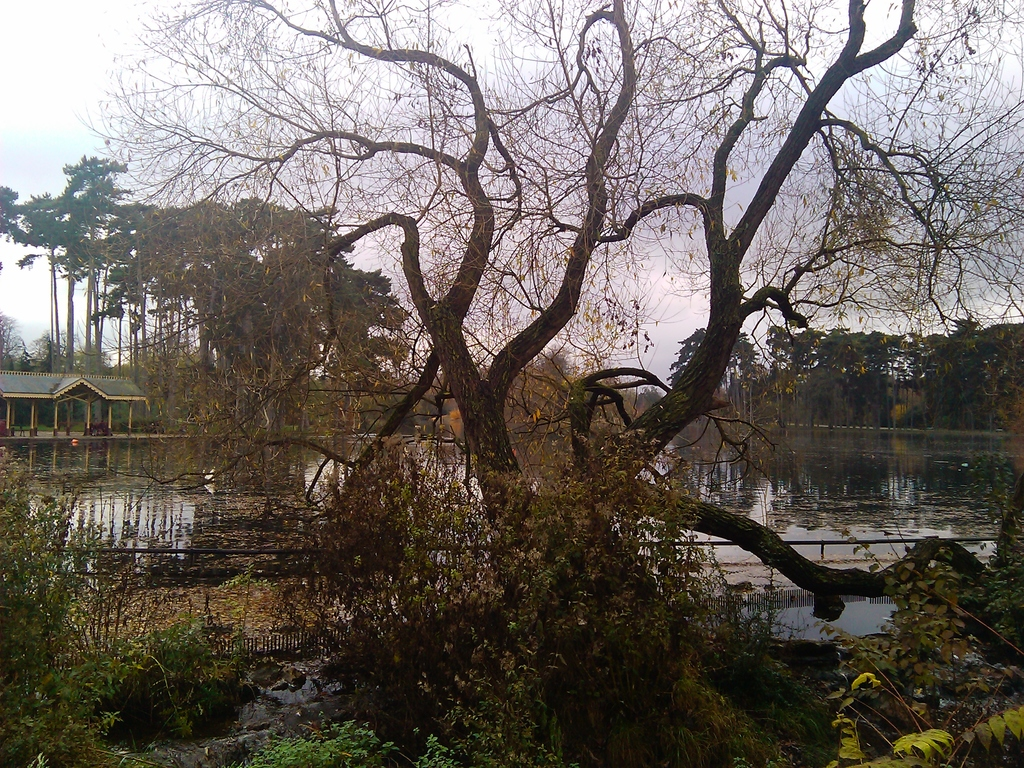Tree: (42, 0, 972, 702), (0, 149, 408, 392)
